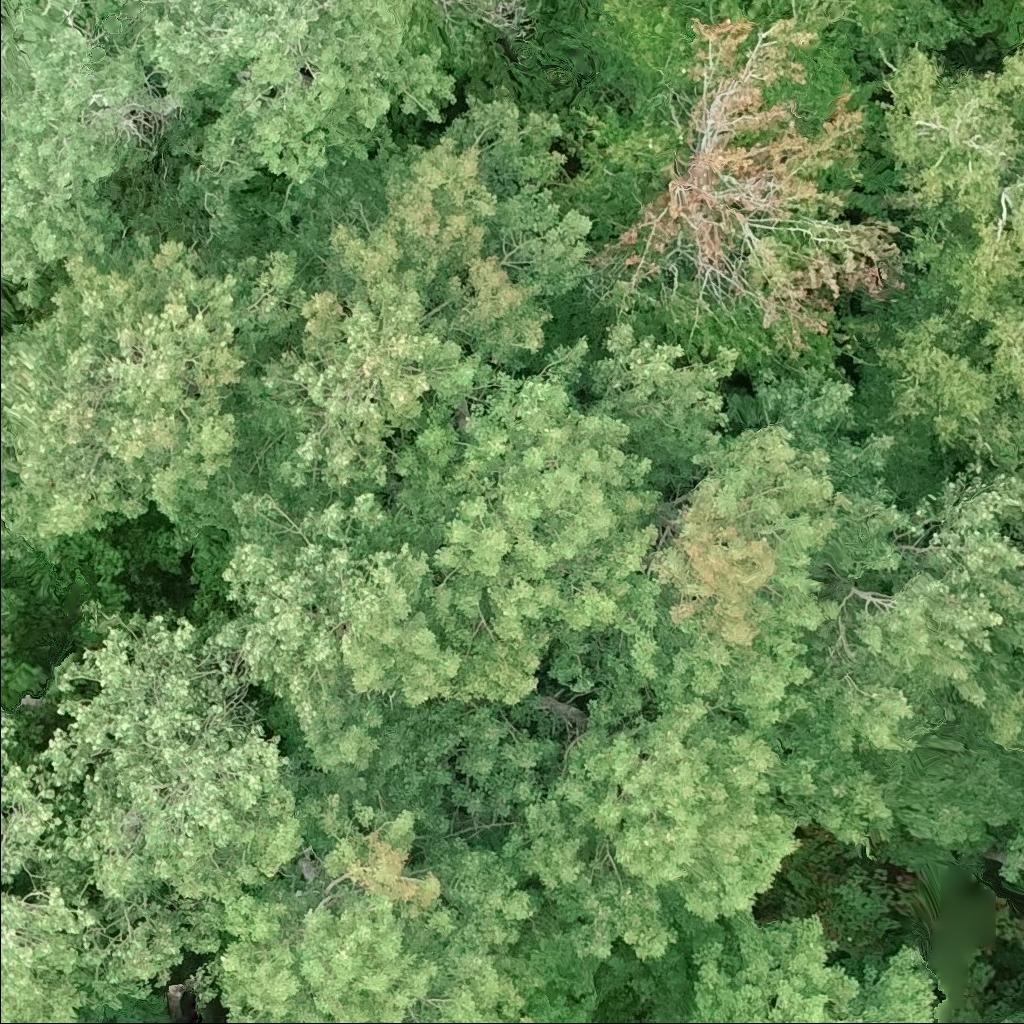crown: (235, 85, 599, 512), (541, 0, 912, 378), (184, 764, 642, 1023), (87, 0, 496, 283), (153, 485, 548, 773), (0, 219, 319, 558), (649, 361, 930, 732), (390, 331, 673, 698), (490, 654, 824, 963), (790, 456, 1023, 874), (40, 608, 306, 904), (0, 711, 224, 1023), (0, 0, 169, 316), (880, 37, 1023, 323), (850, 278, 1023, 504), (622, 907, 937, 1023), (368, 698, 581, 840), (580, 315, 741, 483), (996, 0, 1023, 122), (996, 809, 1023, 887)
